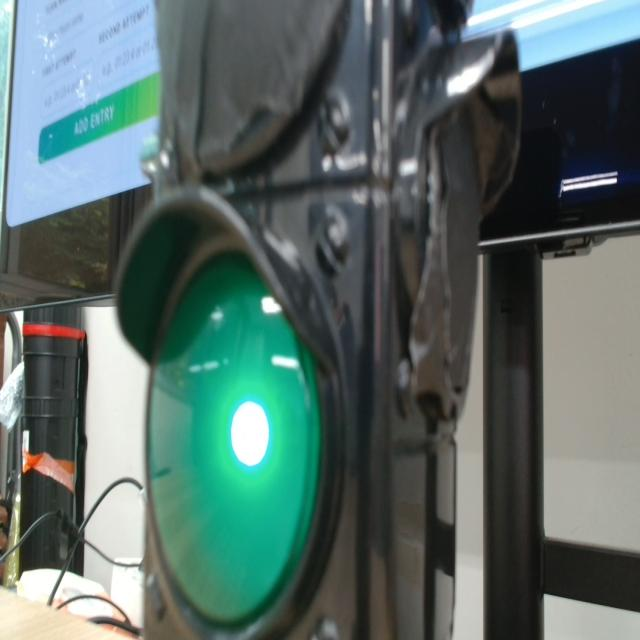green_light: (149, 255, 320, 626), (231, 402, 269, 466)
